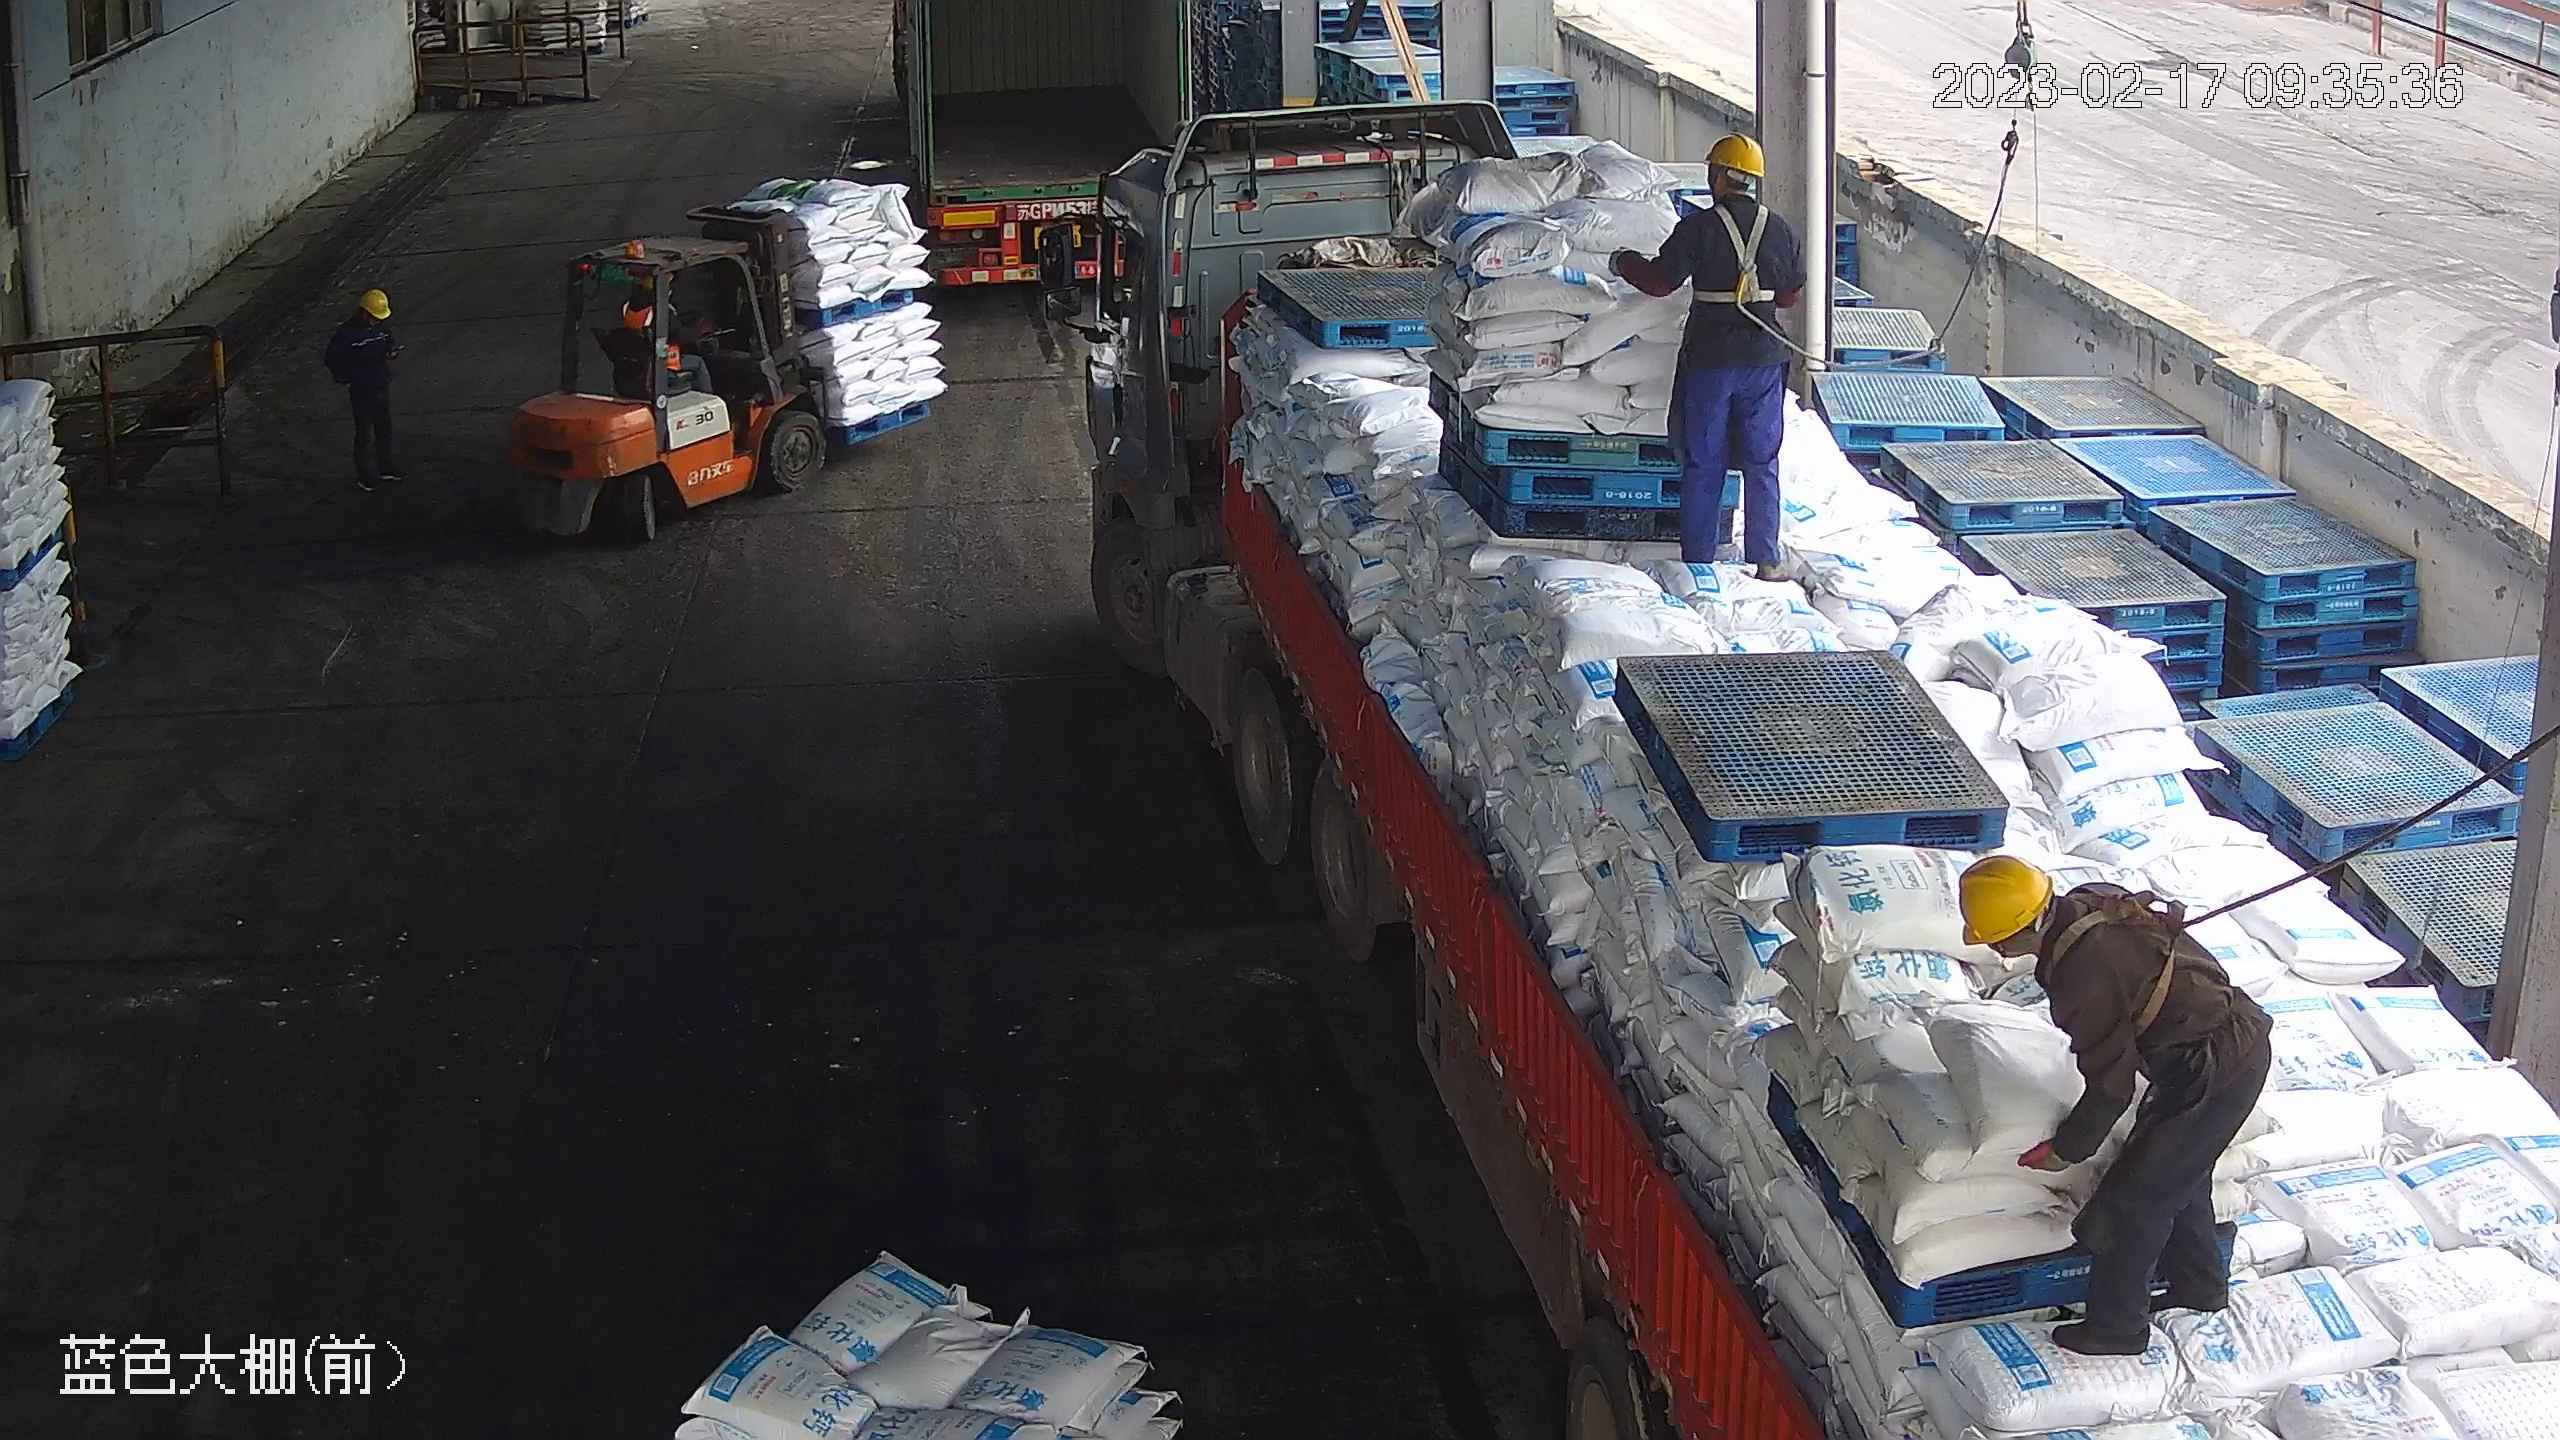belt: (1956, 851, 2176, 1027), (2052, 877, 2209, 1038), (1670, 132, 1798, 264), (1690, 201, 1783, 311)
head: (1952, 850, 2158, 1027), (326, 286, 406, 492), (1668, 129, 1798, 255), (331, 287, 398, 351)
helmet: (1953, 849, 2160, 1027), (1954, 849, 2055, 947), (1707, 129, 1766, 178), (360, 286, 393, 317)
people: (1958, 849, 2277, 1363), (1616, 126, 1811, 579), (326, 286, 407, 493)
truck: (1036, 133, 2555, 1438), (891, 0, 1198, 292)
